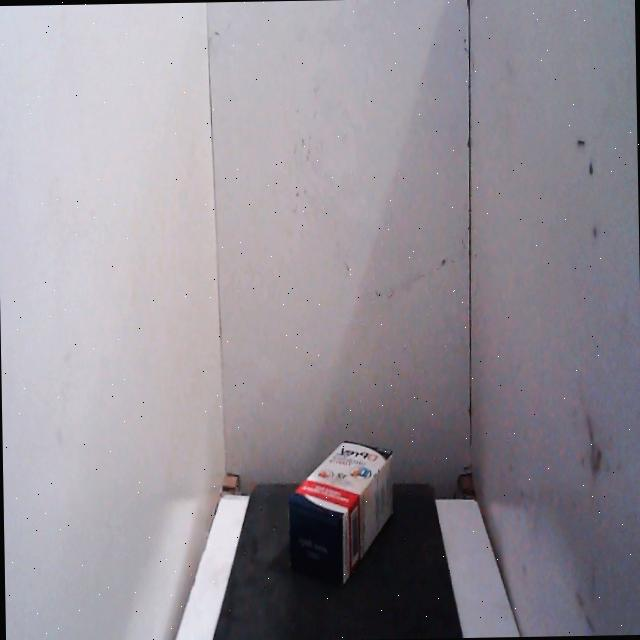papel: (278, 420, 405, 598)
